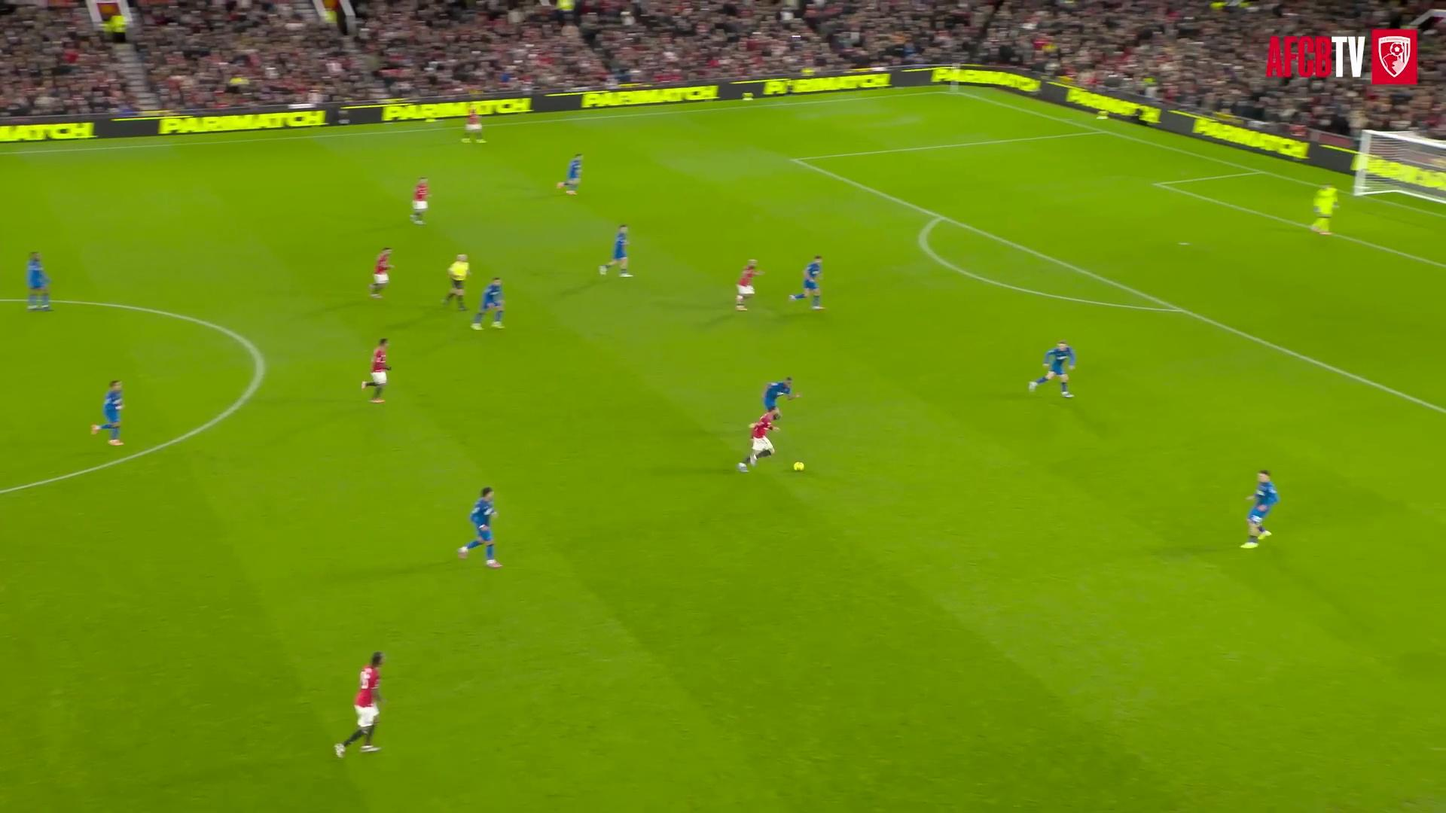football: (794, 461, 807, 474)
player: (334, 653, 383, 757), (458, 487, 501, 568), (1241, 470, 1279, 548), (1029, 341, 1076, 397), (737, 411, 777, 472), (91, 380, 123, 445), (789, 255, 823, 309), (362, 339, 390, 403), (471, 277, 504, 329), (599, 224, 631, 277), (762, 376, 799, 419), (26, 251, 50, 310), (1311, 184, 1338, 235), (735, 260, 762, 310), (369, 247, 392, 299), (557, 154, 581, 194), (410, 178, 429, 224), (462, 105, 485, 143)
referee: (441, 254, 469, 309)
